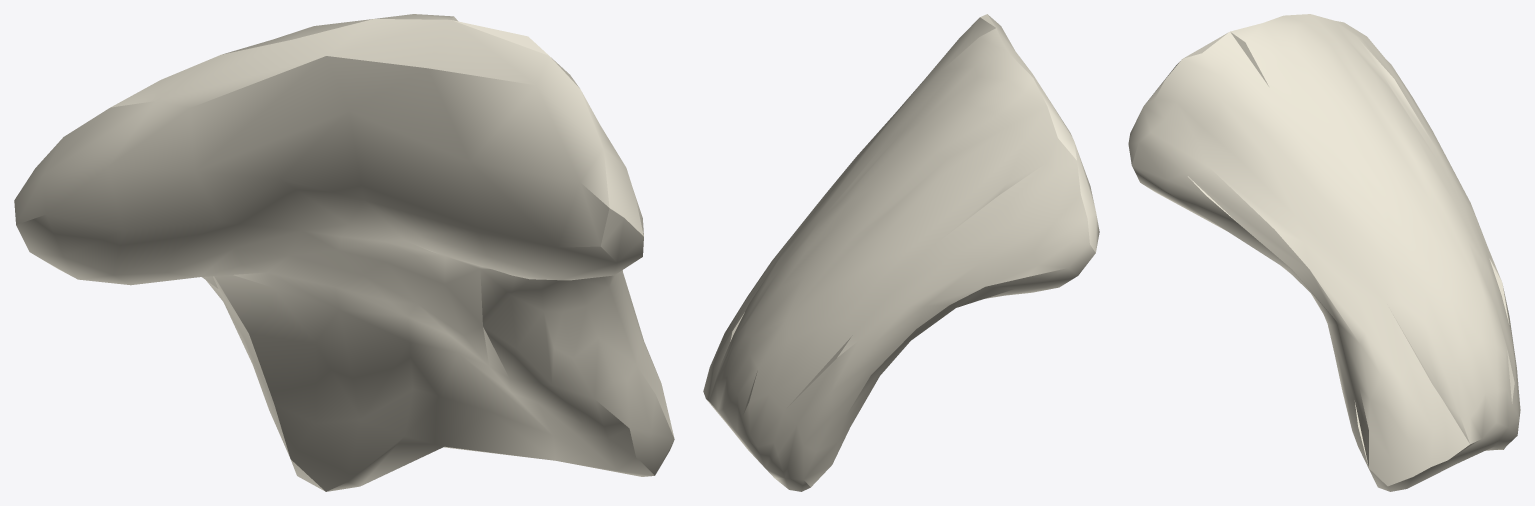
File: fma76858-l_mm1401.glb
3 renders of one model, left to right at view 1: azimuth 30°, elevation 25°; view 2: azimuth 150°, elevation 25°; view 3: azimuth 270°, elevation 25°, orthographic. The views are drawn at different scales.
Parts seen in each view (by area): view 1: FMA76858-L_MM1401; view 2: FMA76858-L_MM1401; view 3: FMA76858-L_MM1401.
Part boxes in pixels (box(x1,y1,x2,y2)): FMA76858-L_MM1401: box(14, 14, 674, 491); FMA76858-L_MM1401: box(703, 14, 1099, 491); FMA76858-L_MM1401: box(1128, 14, 1520, 491).
Size of the model in its own units: 0.0206 by 0.0199 by 0.0184.
